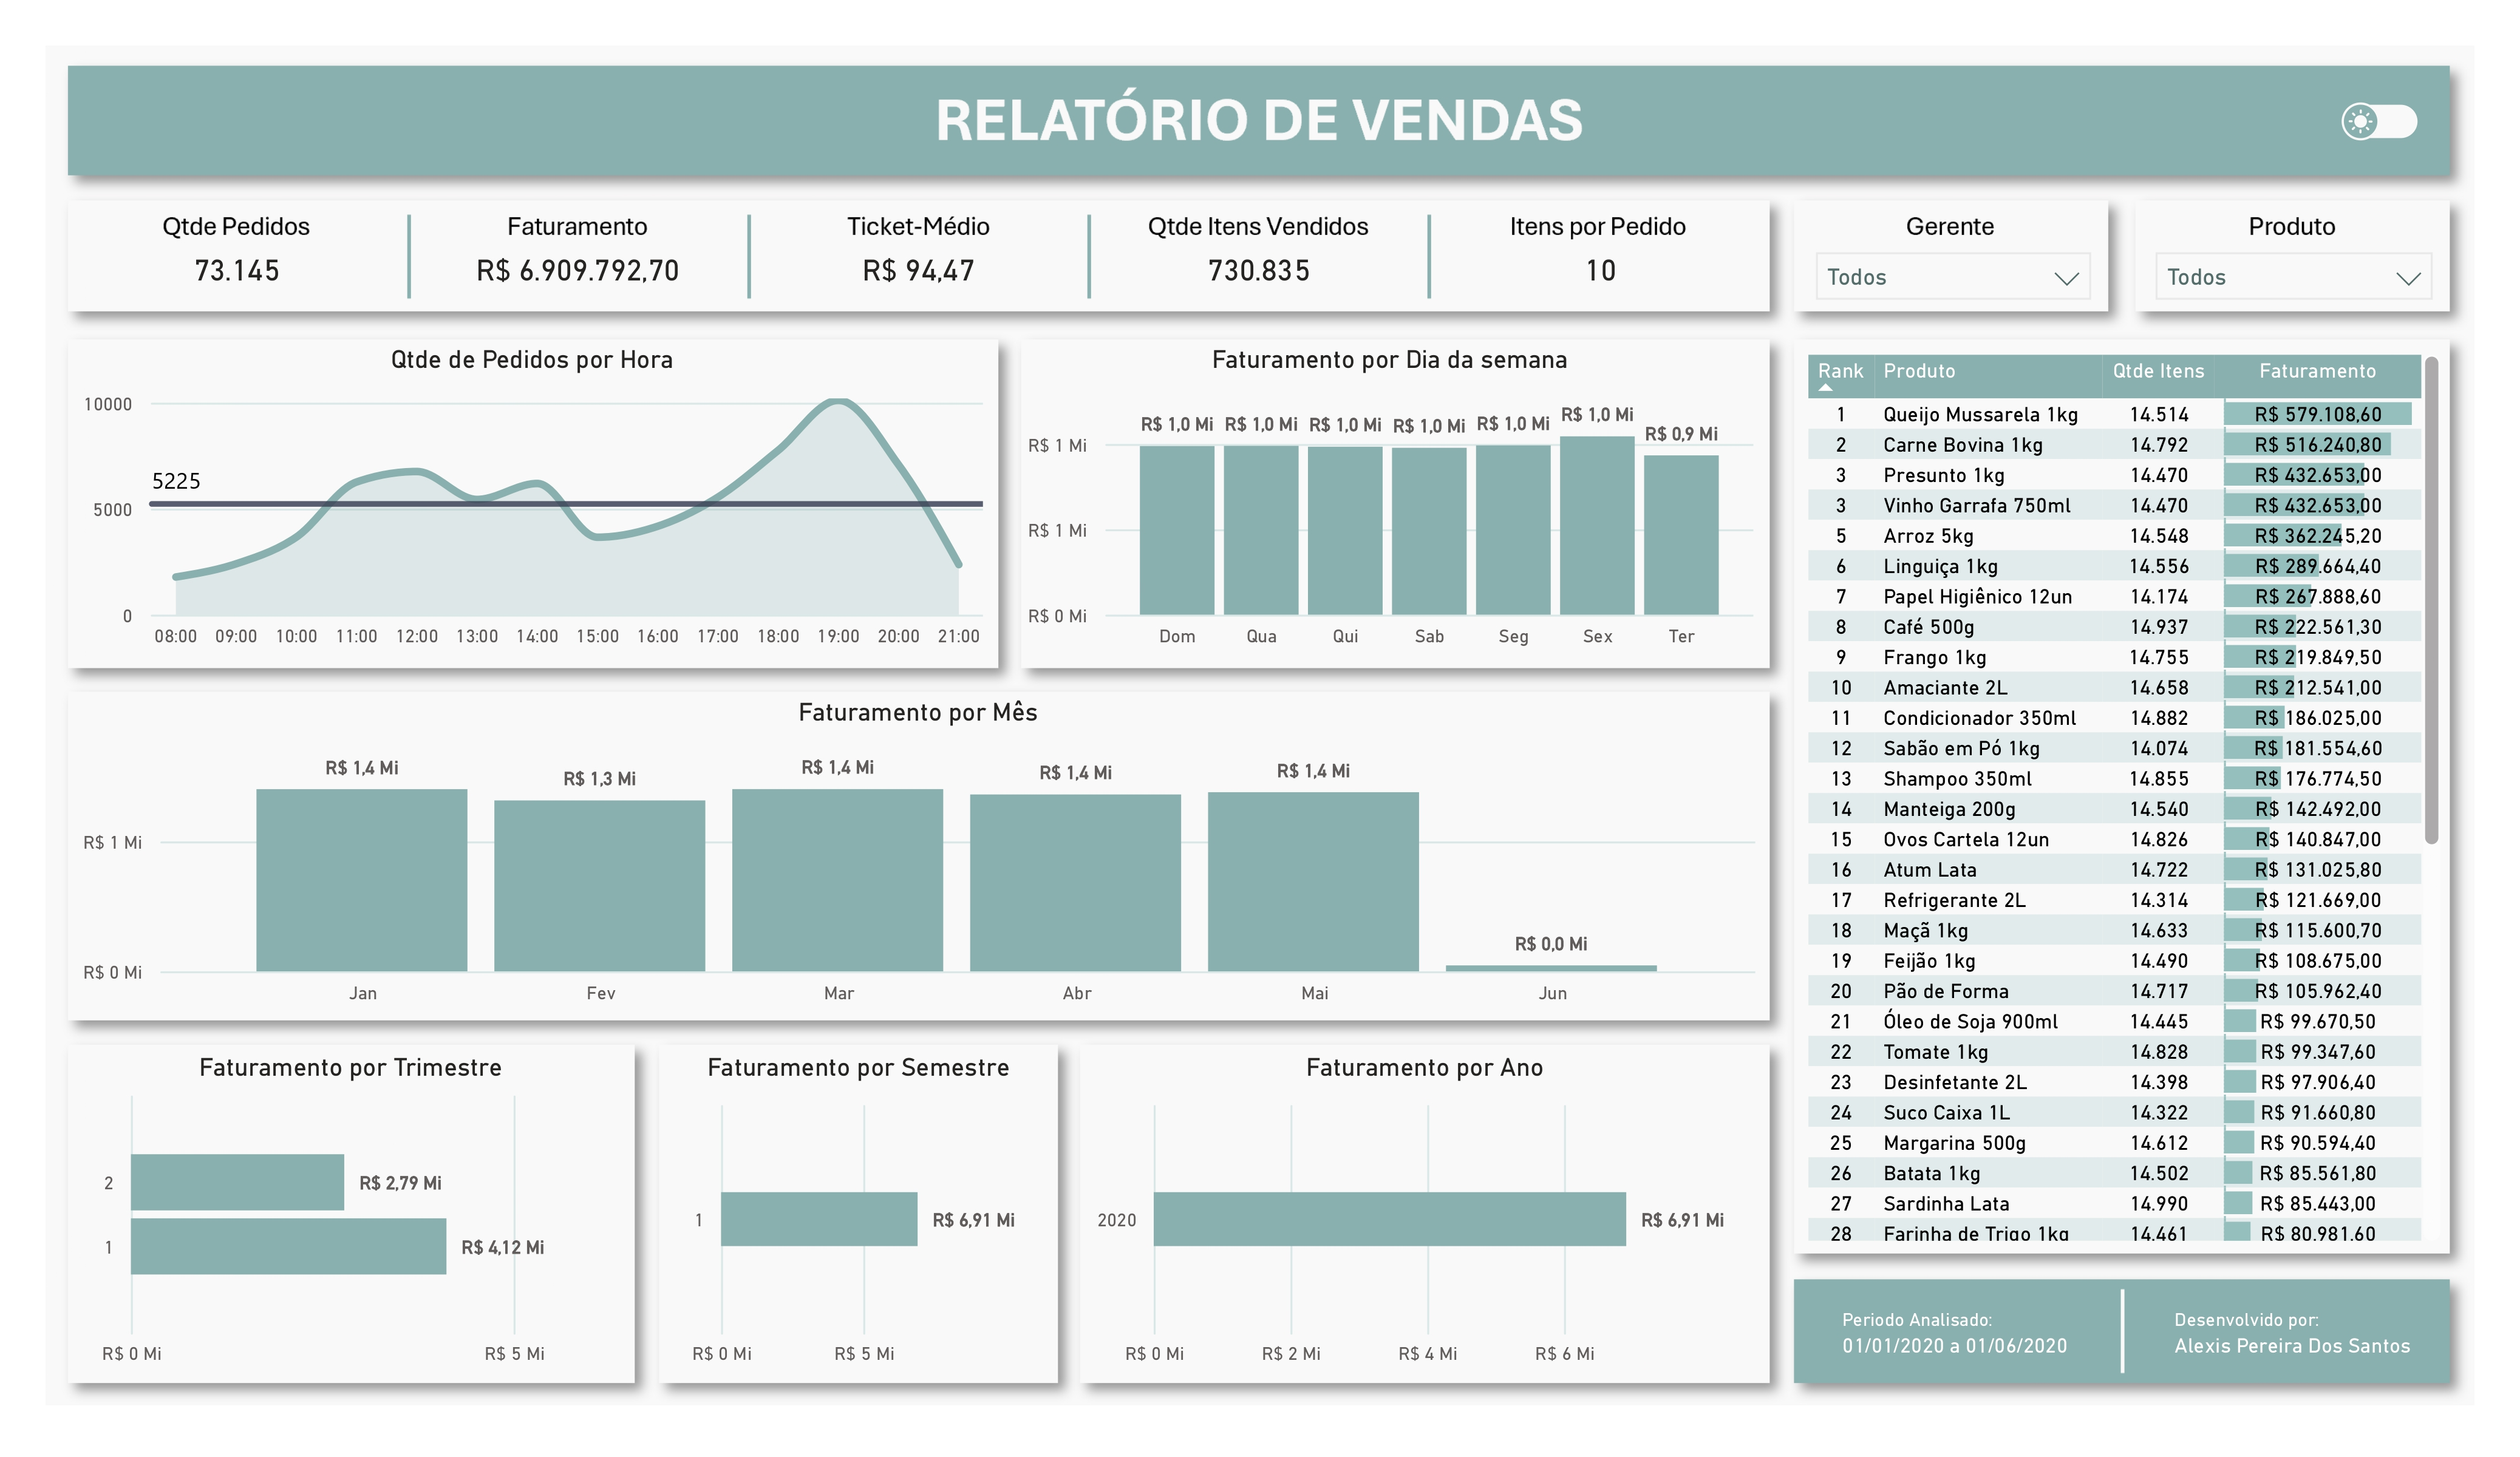

What the dashboard file says about the page in this screenshot:
{"tool":"powerbi","page":{"name":"RELATORIO_BI","canvas":[1280,720],"ordinal":0},"visuals":[{"type":"columnChart","title":"Faturamento por Dia da semana","fields":{"Category":["gold dim_calendario.dia_nome"],"Y":["gold fato_vendas.Faturamento"]},"box":[511.8,158.2,393.6,167.3],"z":0},{"type":"cardVisual","fields":{"Data":["gold fato_vendas.Faturamento"]},"box":[193.8,95,173,44],"z":1000},{"type":"cardVisual","fields":{"Data":["gold fato_vendas.QTD_PEDIDOS"]},"box":[14.7,95,172.7,44],"z":2000},{"type":"cardVisual","fields":{"Data":["gold fato_vendas.QTD_ITENS"]},"box":[553.2,95,173,44],"z":3000},{"type":"cardVisual","fields":{"Data":["gold fato_vendas.ITENS_P_PEDIDO"]},"box":[732.7,95,173.3,44],"z":4000},{"type":"cardVisual","fields":{"Data":["gold fato_vendas.TICKET_MÉDIO"]},"box":[373.3,95,173.3,44],"z":5000},{"type":"lineChart","title":"Qtde de Pedidos por Hora","fields":{"Category":["gold fato_vendas.inicio_hora"],"Y":["gold fato_vendas.QTD_PEDIDOS"]},"box":[14.2,157.8,485,167.6],"z":6000},{"type":"columnChart","title":"Faturamento por Mês","fields":{"Category":["gold dim_calendario.mes_abreviado"],"Y":["gold fato_vendas.Faturamento"]},"box":[14.4,343.8,891.2,169.4],"z":7000},{"type":"clusteredBarChart","title":"Faturamento por Ano","fields":{"Category":["gold dim_calendario.ano"],"Y":["gold fato_vendas.Faturamento"]},"box":[547.5,530.6,358.1,172.5],"z":8000},{"type":"clusteredBarChart","title":"Faturamento por Semestre","fields":{"Category":["gold dim_calendario.semestre"],"Y":["gold fato_vendas.Faturamento"]},"box":[325,530.6,206.9,172.5],"z":9000},{"type":"slicer","fields":{"Values":["gold dim_lojas.gerente"]},"box":[922.9,99.2,165.3,39.5],"z":10000},{"type":"slicer","fields":{"Values":["gold dim_produtos.produto"]},"box":[1101.8,99.2,165.8,39.5],"z":11000},{"type":"clusteredBarChart","title":"Faturamento por Trimestre","fields":{"Category":["gold dim_calendario.trimestre"],"Y":["gold fato_vendas.Faturamento"]},"box":[14.4,530.6,293.8,172.5],"z":12000},{"type":"tableEx","fields":{"Values":["gold fato_vendas.RANK_PROD","gold dim_produtos.produto","gold fato_vendas.QTD_ITENS","gold fato_vendas.Faturamento"]},"box":[922.7,158.2,344.5,476.4],"z":13000},{"type":"cardVisual","fields":{"Data":["gold dim_calendario.data_inicio"]},"box":[928.7,657.2,156.7,41.4],"z":14000},{"type":"cardVisual","fields":{"Data":["gold dim_calendario.Desenvolvido"]},"box":[1105,658,161,41],"z":15000},{"type":"image","box":[1210,30,40,20],"z":16000}]}

Visuals, with their boxes on the page's 1280x720 design canvas (x1, y1, x2, y2). These are canvas units, not pixel positions in the 2520x1457 screenshot, which may show the page scaled, cropped or inside an application window:
"Faturamento por Dia da semana" columnChart: 512 158 905 326
cardVisual - gold fato_vendas.Faturamento: 194 95 367 139
cardVisual - gold fato_vendas.QTD_PEDIDOS: 15 95 187 139
cardVisual - gold fato_vendas.QTD_ITENS: 553 95 726 139
cardVisual - gold fato_vendas.ITENS_P_PEDIDO: 733 95 906 139
cardVisual - gold fato_vendas.TICKET_MÉDIO: 373 95 547 139
"Qtde de Pedidos por Hora" lineChart: 14 158 499 325
"Faturamento por Mês" columnChart: 14 344 906 513
"Faturamento por Ano" clusteredBarChart: 548 531 906 703
"Faturamento por Semestre" clusteredBarChart: 325 531 532 703
slicer - gold dim_lojas.gerente: 923 99 1088 139
slicer - gold dim_produtos.produto: 1102 99 1268 139
"Faturamento por Trimestre" clusteredBarChart: 14 531 308 703
tableEx - gold fato_vendas.RANK_PROD x gold dim_produtos.produto: 923 158 1267 635
cardVisual - gold dim_calendario.data_inicio: 929 657 1085 699
cardVisual - gold dim_calendario.Desenvolvido: 1105 658 1266 699
image: 1210 30 1250 50
